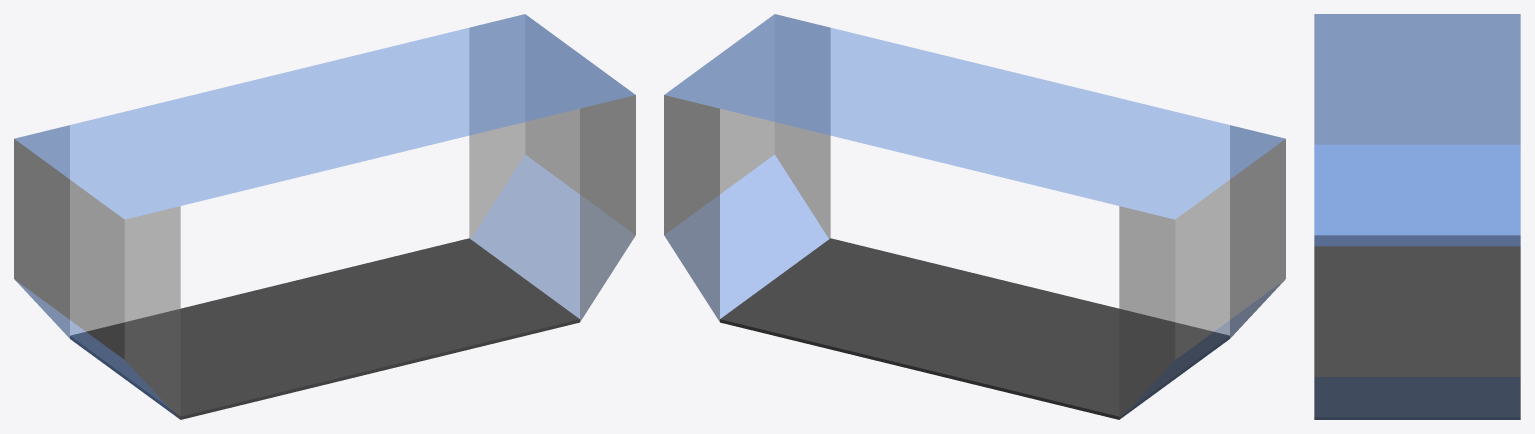
Rendered from alf.gltf.
3 renders of one model, left to right at view 1: azimuth 30°, elevation 25°; view 2: azimuth 150°, elevation 25°; view 3: azimuth 270°, elevation 25°, orthographic. The views are drawn at different scales.
Parts seen in each view (by area): view 1: root; view 2: root; view 3: root.
Part boxes in pixels (x1,y1,x2,y2): root: [14, 14, 635, 419]; root: [664, 14, 1285, 419]; root: [1314, 14, 1520, 419].
Size of the model in its own units: 4.06 by 1.63 by 1.52.
